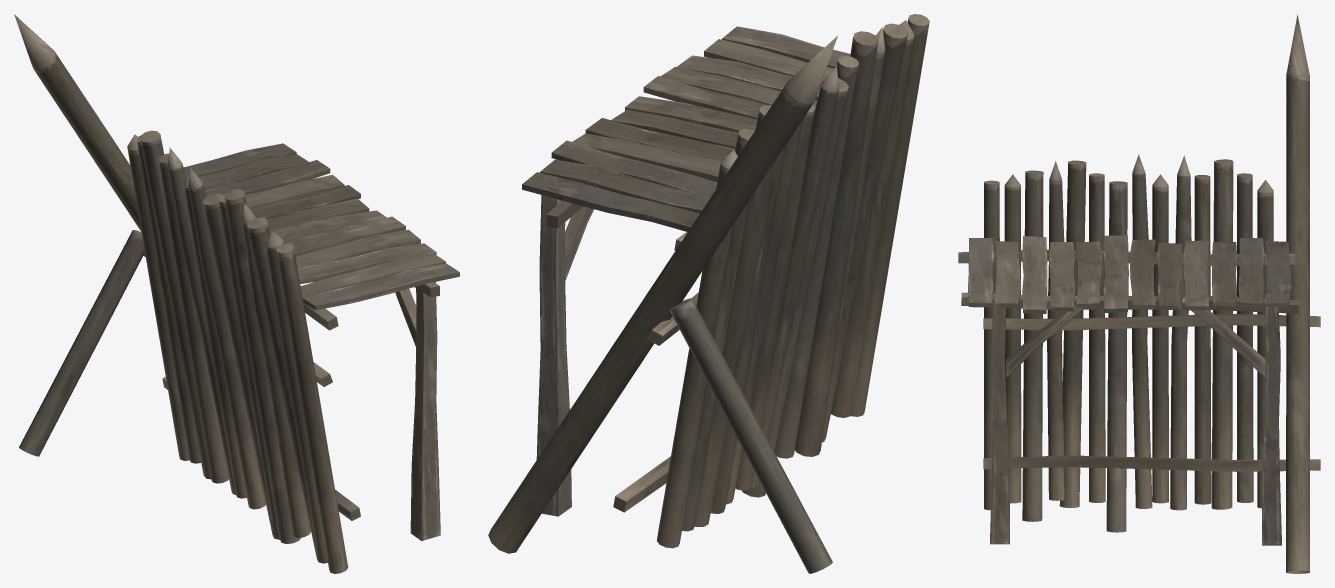
Rendered from build_wall_panel_01_low.glb.
3 renders of one model, left to right at view 1: azimuth 30°, elevation 25°; view 2: azimuth 150°, elevation 25°; view 3: azimuth 270°, elevation 25°, orthographic. The views are drawn at different scales.
Visible parts, largest first — view 1: build_village_fence_01; view 2: build_village_fence_01; view 3: build_village_fence_01.
Boxes of the visible parts, x1,y1,x2,y2 form: build_village_fence_01: (14, 14, 459, 573); build_village_fence_01: (488, 14, 929, 573); build_village_fence_01: (958, 14, 1320, 573).
Size of the model in its own units: 4.14 by 6.8 by 5.03.
1 material, 1 textured.
